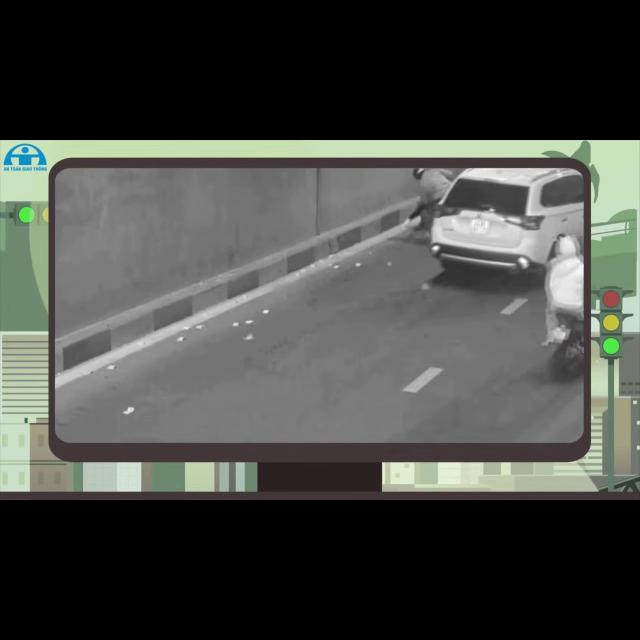car: (430, 168, 584, 271)
motorcycle: (551, 313, 584, 378)
